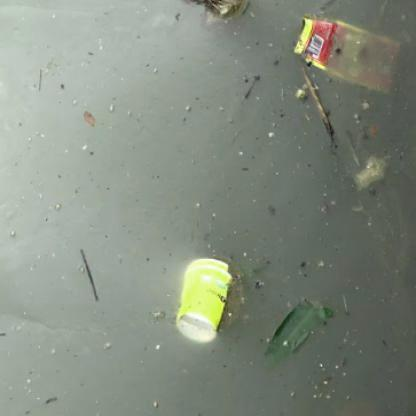Plastic: (174, 255, 233, 346)
Trash: (291, 15, 402, 94)
